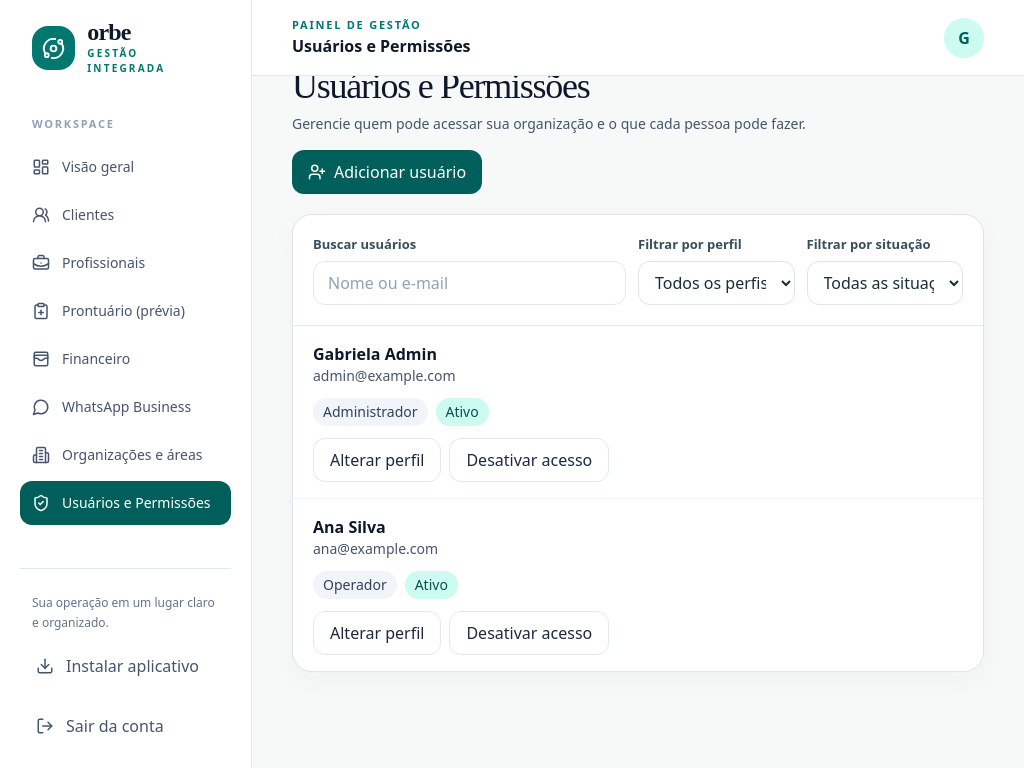
it: Usuários e Permissões › altera o perfil após a API confirmar
(page scrolled)
Click the button with aria-label "Alterar perfil de Ana Silva": (377, 633) left=313, top=611, right=441, bottom=655
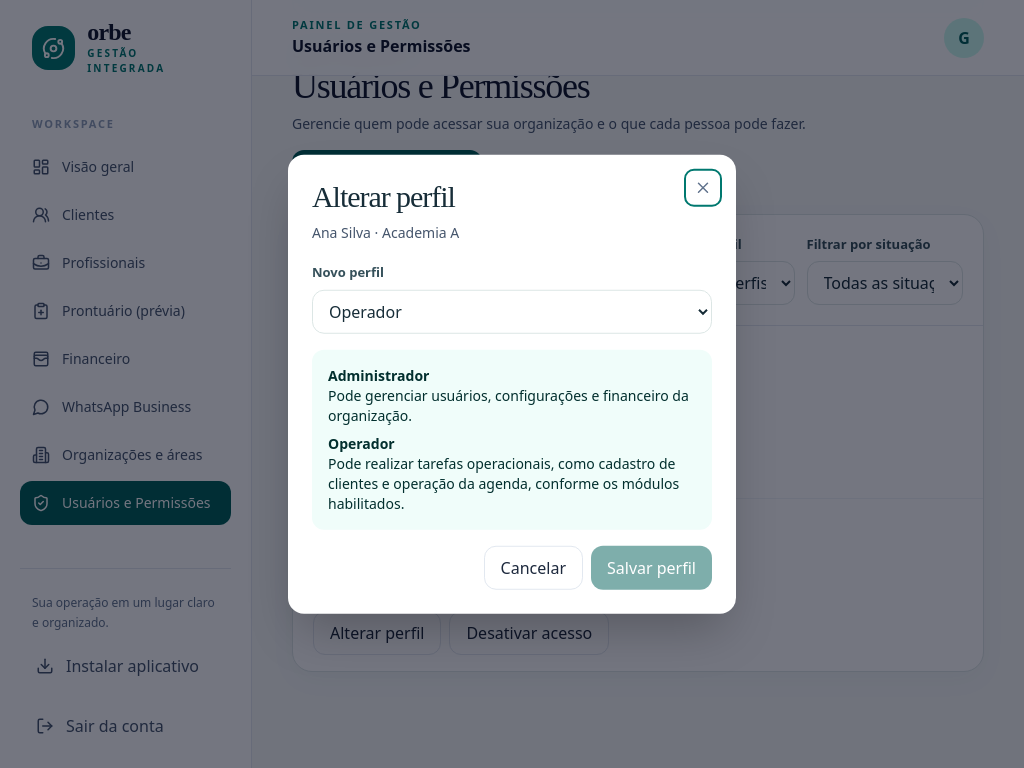
Check: the text "Pode gerenciar usuários" is shown, box left=328, top=385, right=689, bottom=424
Check: the text "Pode realizar tarefas operacionais" is shown, box left=328, top=453, right=679, bottom=512
Select "Administrador" in the dropdown labelled "Novo perfil": (512, 311) left=312, top=289, right=712, bottom=333
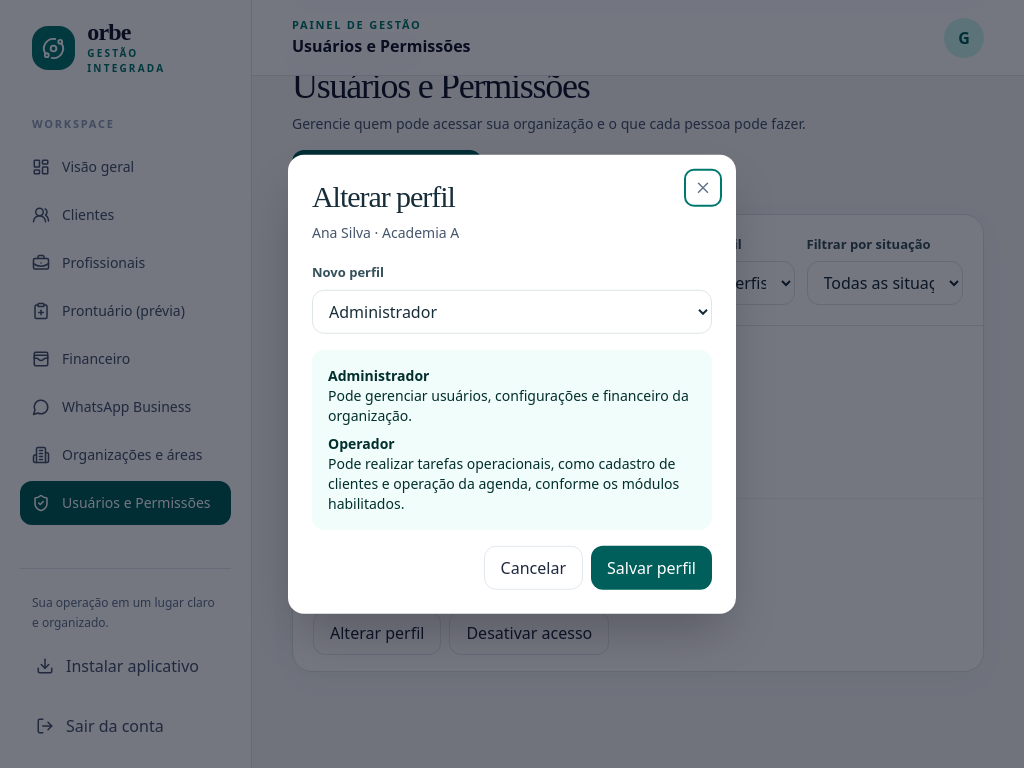
Click the button "Salvar perfil": (652, 567) left=591, top=545, right=712, bottom=589
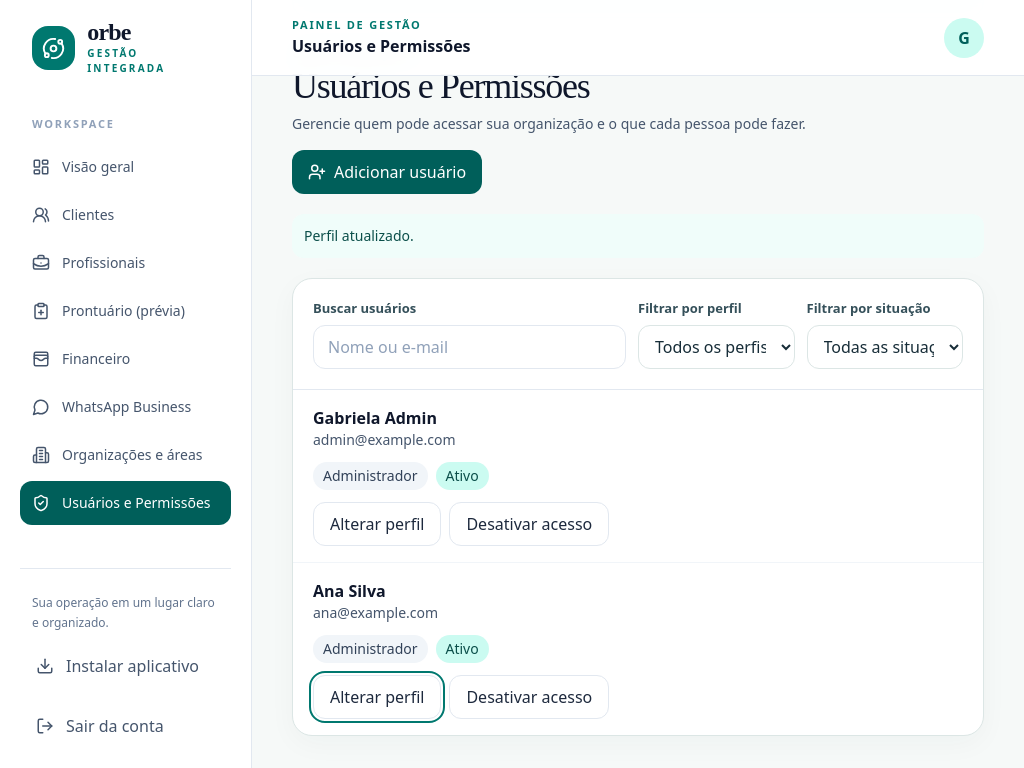
Check: the text "Perfil atualizado." is shown, box left=292, top=214, right=984, bottom=258
Check: the text "Administrador" below "Ana Silva" is shown, box left=323, top=639, right=418, bottom=658
